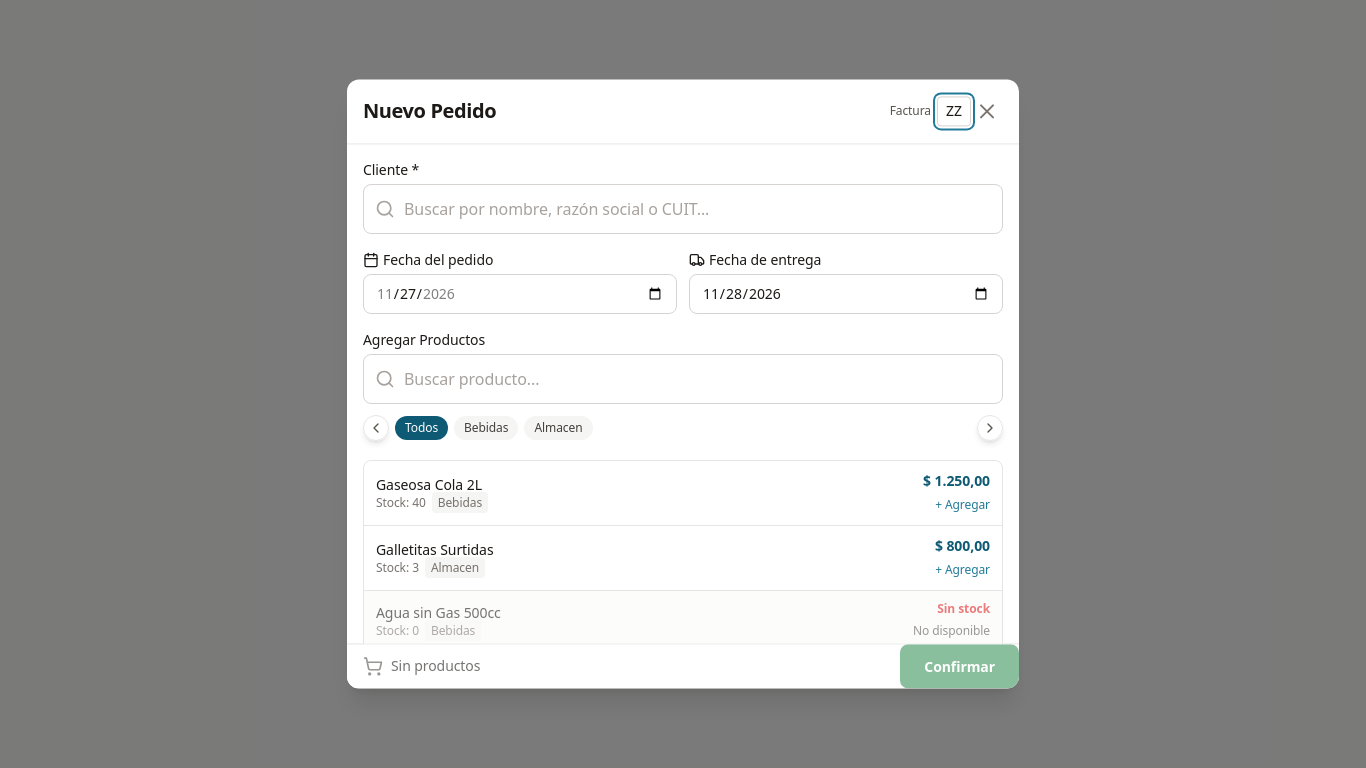
it: ModalPedido — estado inicial › el carrusel de categorías filtra el catálogo y el buscador vacío lo dice
Check: the button named "Anterior categoría" is shown, box [363,415,389,441]
Check: the button named "Siguiente categoría" is shown, box [977,415,1003,441]
Click the button "Bebidas".
click(486, 428)  # box [454,416,518,440]
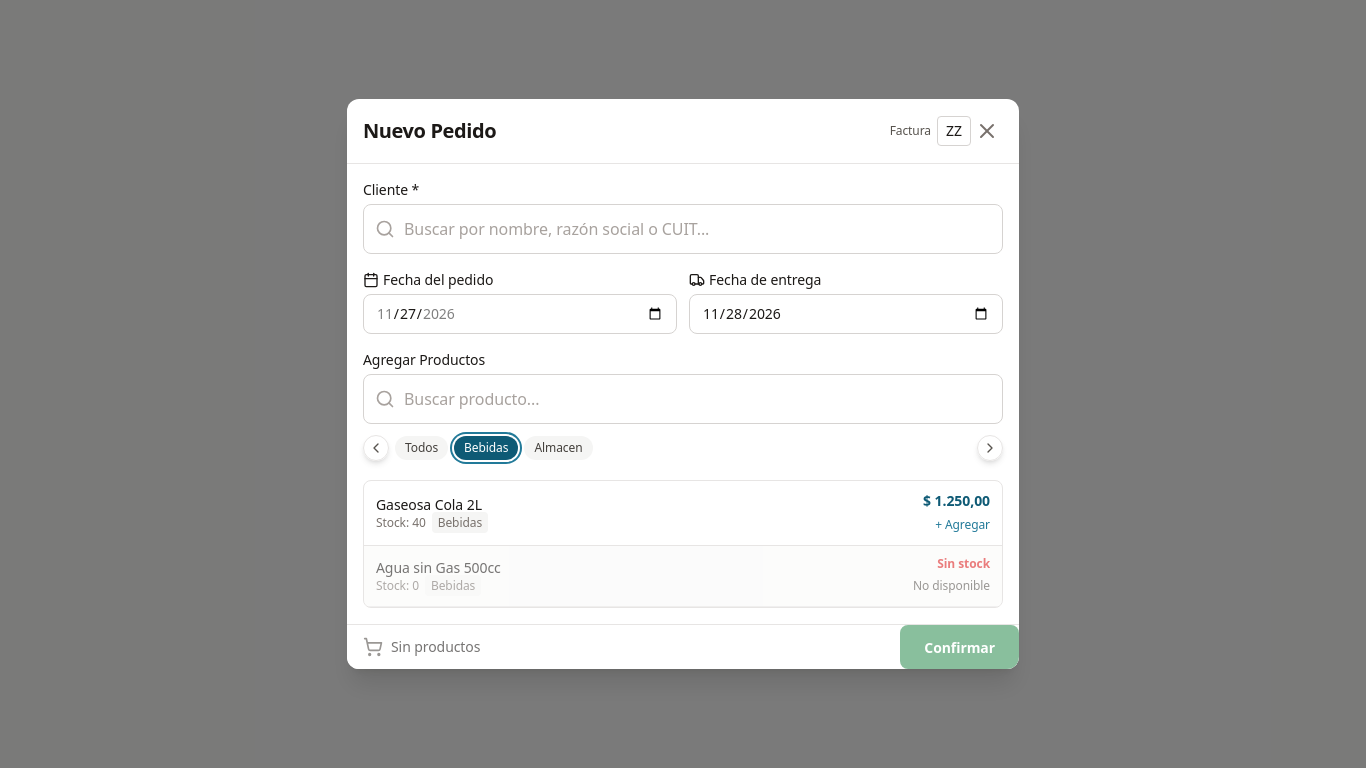
Check: the text "Gaseosa Cola 2L" is shown, box [376,495,482,514]
Check: the button "Galletitas Surtidas" is gone
Click the button "Todos".
click(422, 448)  # box [395,436,448,460]
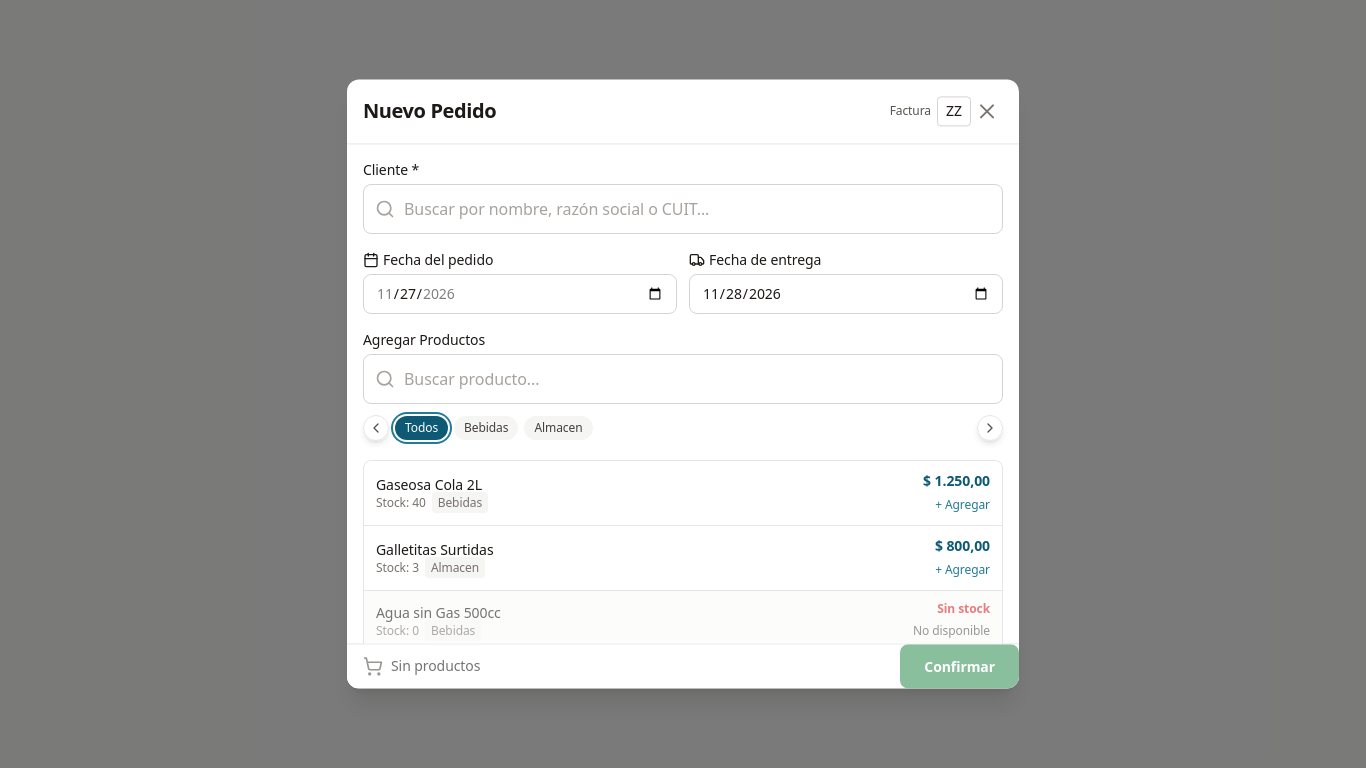
Check: the text "Galletitas Surtidas" is shown, box [376,540,494,559]
Estado vacío en positivo: el cartel aparece, no se esconde el buscador.
Type "zzz" into the field with placeholder "Buscar producto...".
click(683, 379); type("zzz")  # box [363,354,1003,404]
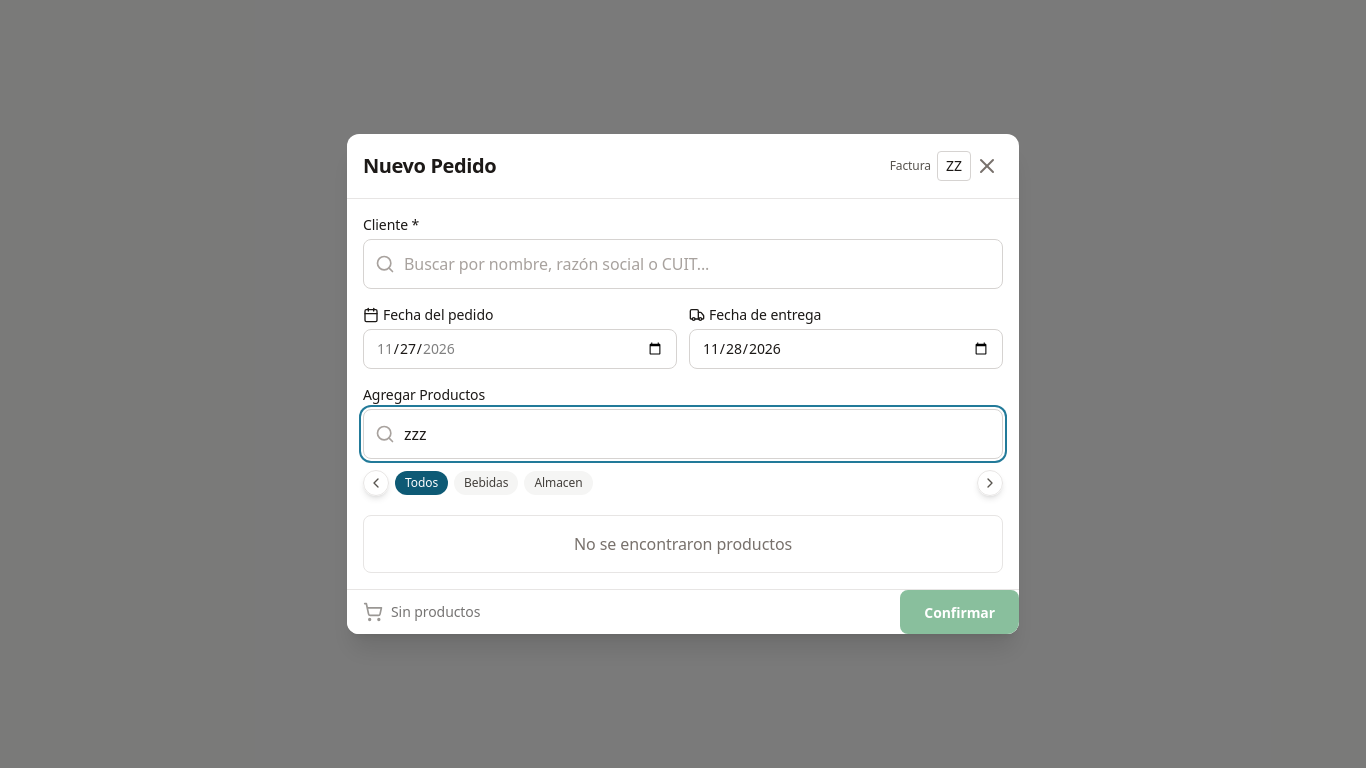
Check: the text "No se encontraron productos" is shown, box [574,533,792,555]
